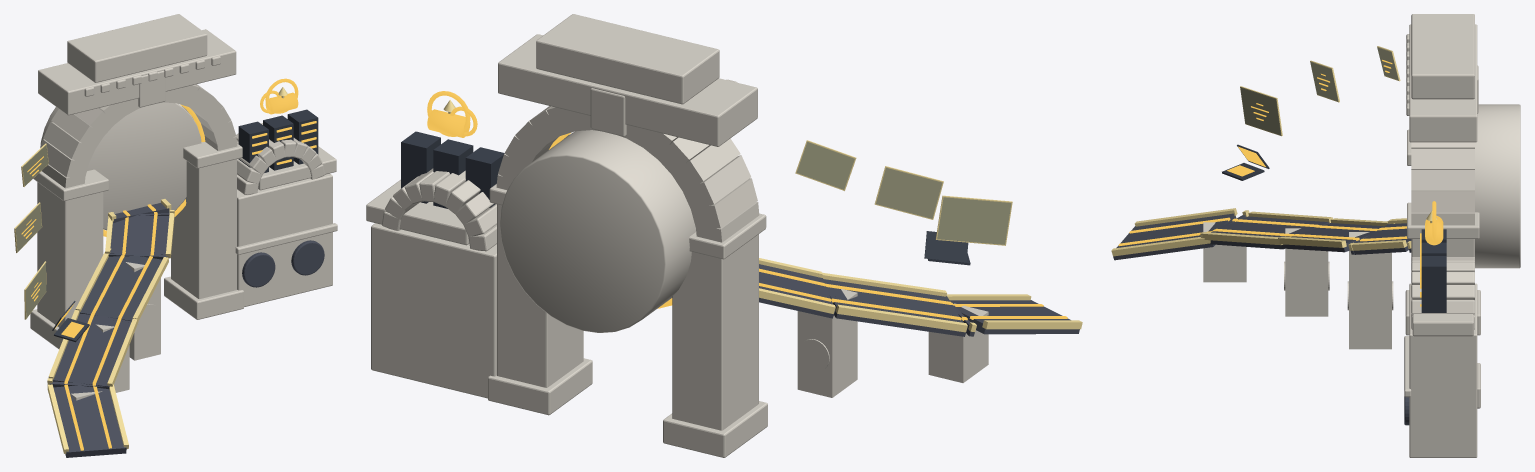
The model's file is devs-guild-v3-backup.glb.
3 views of the same model, side by side, from view 1: azimuth 30°, elevation 25°; view 2: azimuth 150°, elevation 25°; view 3: azimuth 270°, elevation 25° (orthographic). The views are drawn at different scales.
Visible parts, largest first — view 1: Arch_Tunnel_Chamber, Right_Terrace_Bastion, Pillar_Right, Pillar_Left, Gateway_Pediment_Crown, Gateway_Entablature, Plinth_R, Aqueduct_Pier_4, Terrace_Balustrade, Capital_L, Arch_Voussoir_14, Capital_R (+45 smaller); view 2: Arch_Tunnel_Chamber, Right_Terrace_Bastion, Pillar_Left, Gateway_Pediment_Crown, Gateway_Entablature, Pillar_Right, Aqueduct_Pier_3, Tech_Border_2, Plinth_L, Plinth_R, Tech_Panel_2, Aqueduct_Pier_2 (+19 smaller); view 3: Right_Terrace_Bastion, Arch_Tunnel_Chamber, Gateway_Pediment_Crown, Aqueduct_Pier_4, Gateway_Entablature, Aqueduct_Pier_3, Aqueduct_Pier_2, Server_Rack_3, Terrace_Balustrade, Arch_Voussoir_04, Tech_Border_2, Arch_Voussoir_02 (+14 smaller).
Boxes of the visible parts, x1,y1,x2,y2 form: Arch_Tunnel_Chamber: (40,102,201,230); Right_Terrace_Bastion: (237,173,332,306); Pillar_Right: (171,159,236,298); Pillar_Left: (37,182,103,327); Gateway_Pediment_Crown: (67,14,207,82); Gateway_Entablature: (38,29,236,115); Plinth_R: (164,276,243,319); Aqueduct_Pier_4: (125,262,160,360); Terrace_Balustrade: (258,146,336,190); Capital_L: (33,169,108,200); Arch_Voussoir_14: (43,122,95,164); Capital_R: (183,142,242,168); Arch_Tunnel_Chamber: (500,130,696,332); Right_Terrace_Bastion: (371,223,496,398); Pillar_Left: (672,234,758,430); Gateway_Pediment_Crown: (536,14,719,104); Gateway_Entablature: (498,34,757,146); Pillar_Right: (497,204,583,387); Aqueduct_Pier_3: (797,289,857,397); Tech_Border_2: (935,195,1012,245); Plinth_L: (663,401,767,457); Plinth_R: (488,358,592,415); Tech_Panel_2: (937,197,1010,244); Aqueduct_Pier_2: (928,303,988,382); Right_Terrace_Bastion: (1409,283,1477,457); Arch_Tunnel_Chamber: (1475,104,1520,268); Gateway_Pediment_Crown: (1411,14,1474,99); Aqueduct_Pier_4: (1349,232,1391,349); Gateway_Entablature: (1409,24,1477,142); Aqueduct_Pier_3: (1285,228,1328,316); Aqueduct_Pier_2: (1203,222,1246,282); Server_Rack_3: (1421,256,1446,312); Terrace_Balustrade: (1412,314,1473,336); Arch_Voussoir_04: (1411,148,1474,169); Tech_Border_2: (1240,86,1282,136); Arch_Voussoir_02: (1411,191,1474,212).
Size of the model in its own units: 11.27 by 7.65 by 9.
